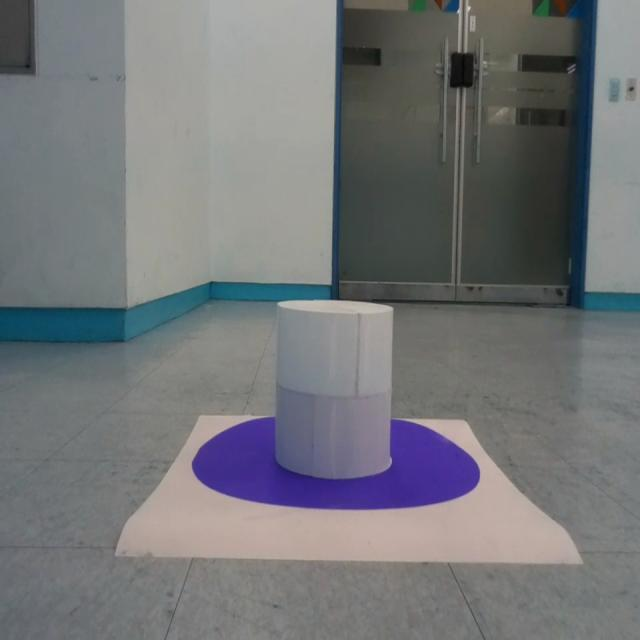cylinder: (273, 298, 394, 481)
